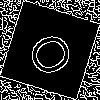O: (24, 24, 84, 81)
